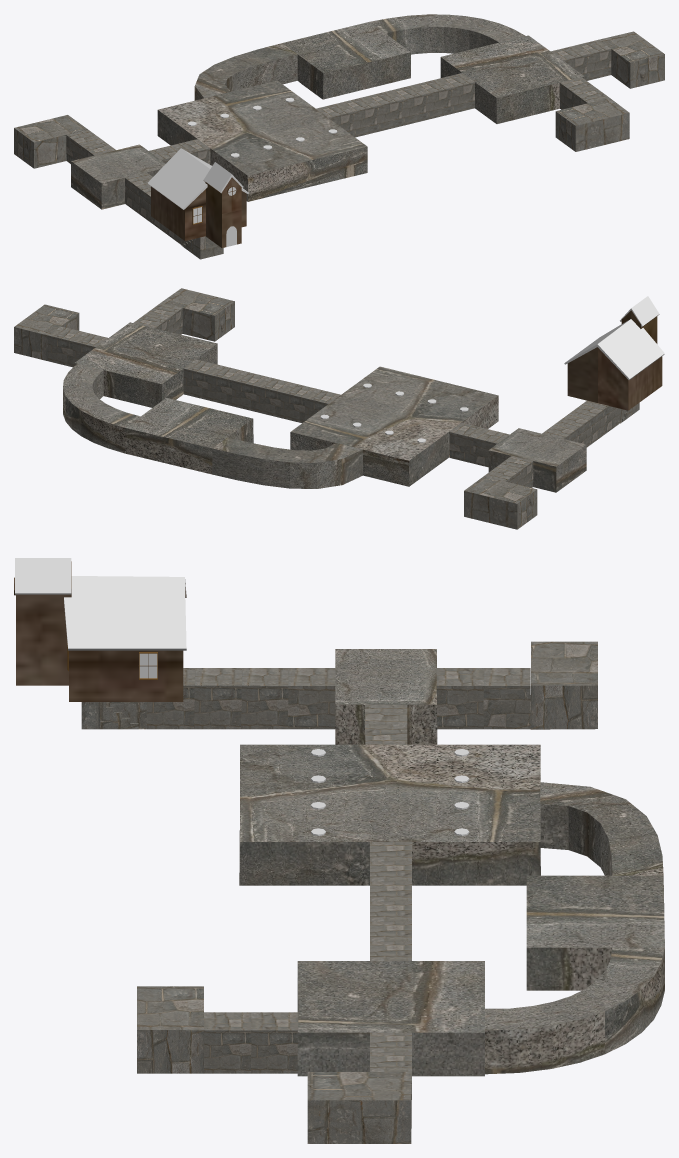
File: ChurchArea.fbx
The picture shows the model from 3 angles, top to bottom: view 1: azimuth 30°, elevation 25°; view 2: azimuth 150°, elevation 25°; view 3: azimuth 270°, elevation 25°; orthographic projection. The views are drawn at different scales.
Visible parts, largest first — view 1: Room.005, Room, Church, Room.001, Corridor, Plane.022, Room.004, Plane.021, Room.003, Room.002, Room.006, Corridor.001 (+7 smaller); view 2: Room.005, Church, Room, Room.001, Plane.021, Corridor, Plane.022, Room.004, Room.006, Room.003, Room.002, Corridor.001 (+9 smaller); view 3: Room.005, Church, Room, Room.001, Plane.022, Plane.021, Room.004, Room.002, Room.006, Room.003, Corridor.002, Corridor (+10 smaller).
Boxes of the visible parts, left/top/right/bottom form: Room.005: left=157, top=80, right=367, bottom=201; Room: left=440, top=35, right=584, bottom=123; Church: left=148, top=148, right=248, bottom=247; Room.001: left=282, top=22, right=410, bottom=99; Corridor: left=315, top=73, right=474, bottom=137; Plane.022: left=370, top=14, right=525, bottom=54; Room.004: left=71, top=144, right=165, bottom=209; Plane.021: left=194, top=43, right=297, bottom=100; Room.003: left=555, top=98, right=629, bottom=151; Room.002: left=599, top=31, right=664, bottom=88; Room.006: left=14, top=115, right=87, bottom=168; Corridor.001: left=551, top=39, right=611, bottom=80; Room.005: left=290, top=366, right=498, bottom=486; Church: left=564, top=296, right=664, bottom=410; Room: left=74, top=322, right=217, bottom=407; Room.001: left=125, top=398, right=253, bottom=474; Plane.021: left=212, top=437, right=362, bottom=488; Corridor: left=183, top=359, right=340, bottom=422; Plane.022: left=63, top=363, right=140, bottom=453; Room.004: left=488, top=428, right=586, bottom=492; Room.006: left=464, top=476, right=537, bottom=529; Room.003: left=161, top=288, right=234, bottom=341; Room.002: left=14, top=304, right=79, bottom=360; Corridor.001: left=48, top=326, right=107, bottom=367; Room.005: left=239, top=744, right=540, bottom=885; Church: left=14, top=558, right=186, bottom=701; Room: left=297, top=961, right=484, bottom=1076; Room.001: left=526, top=875, right=664, bottom=990; Plane.022: left=485, top=947, right=664, bottom=1074; Plane.021: left=540, top=782, right=663, bottom=875; Room.004: left=335, top=649, right=437, bottom=744; Room.002: left=307, top=1072, right=411, bottom=1143; Room.006: left=530, top=641, right=597, bottom=729; Room.003: left=137, top=986, right=203, bottom=1073; Corridor.002: left=204, top=1012, right=298, bottom=1073; Corridor: left=370, top=841, right=411, bottom=960.
Bounding box in the file's own units: 11567 × 6941 × 1925.
